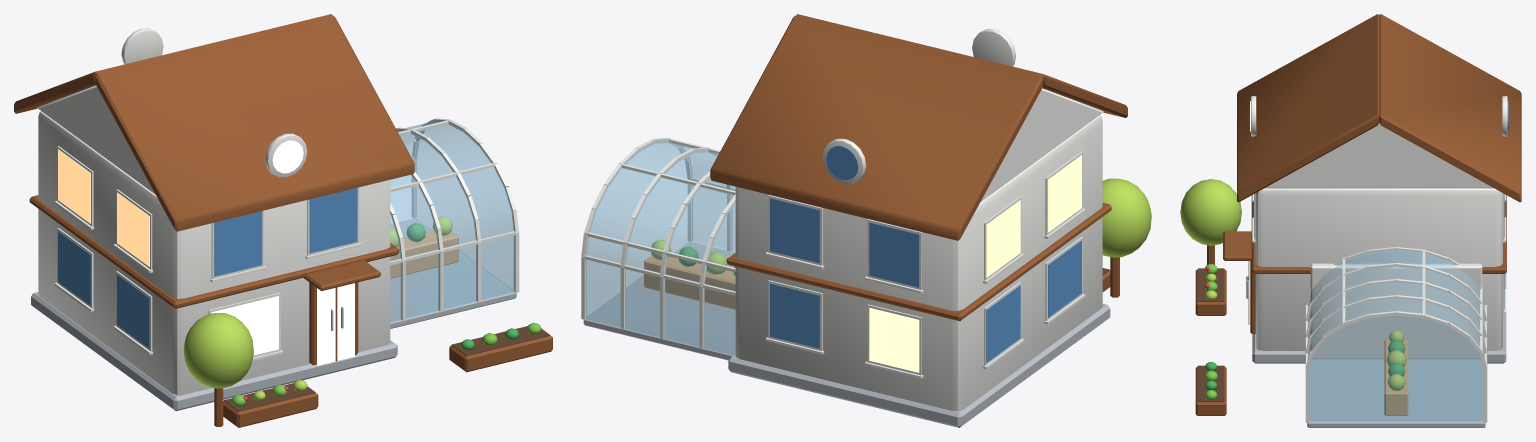
The model's file is casa_estufa.glb.
The picture shows the model from 3 angles, left to right: view 1: azimuth 30°, elevation 25°; view 2: azimuth 150°, elevation 25°; view 3: azimuth 270°, elevation 25°; orthographic projection. The views are drawn at different scales.
Parts seen in each view (by area): view 1: casa_estufa; view 2: casa_estufa; view 3: casa_estufa.
Part boxes in pixels (bbox=[...]): casa_estufa: bbox=[14, 14, 552, 427]; casa_estufa: bbox=[581, 14, 1151, 427]; casa_estufa: bbox=[1180, 14, 1521, 427].
Size of the model in its own units: 11.32 by 8.12 by 9.95.
5 materials, 1 textured.
